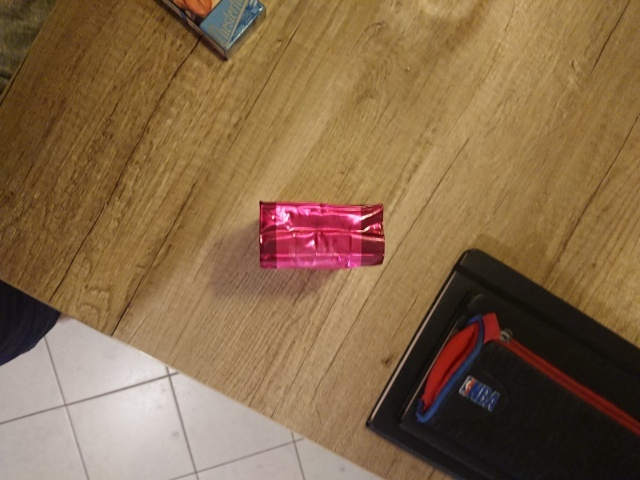Barcaffe Classic Original 225g: (256, 198, 388, 272)
